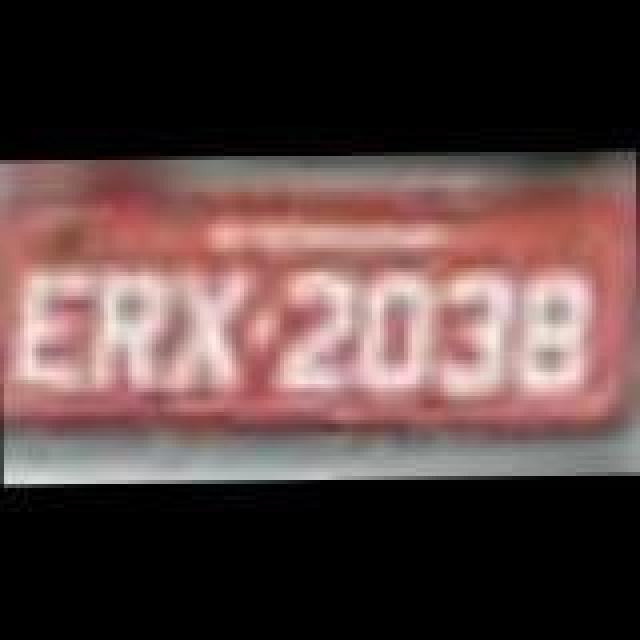2: (280, 274, 360, 398)
3: (440, 262, 520, 402)
8: (508, 264, 596, 400)
E: (8, 272, 104, 392)
O: (356, 266, 444, 398)
R: (88, 268, 168, 396)
X: (162, 262, 254, 394)
